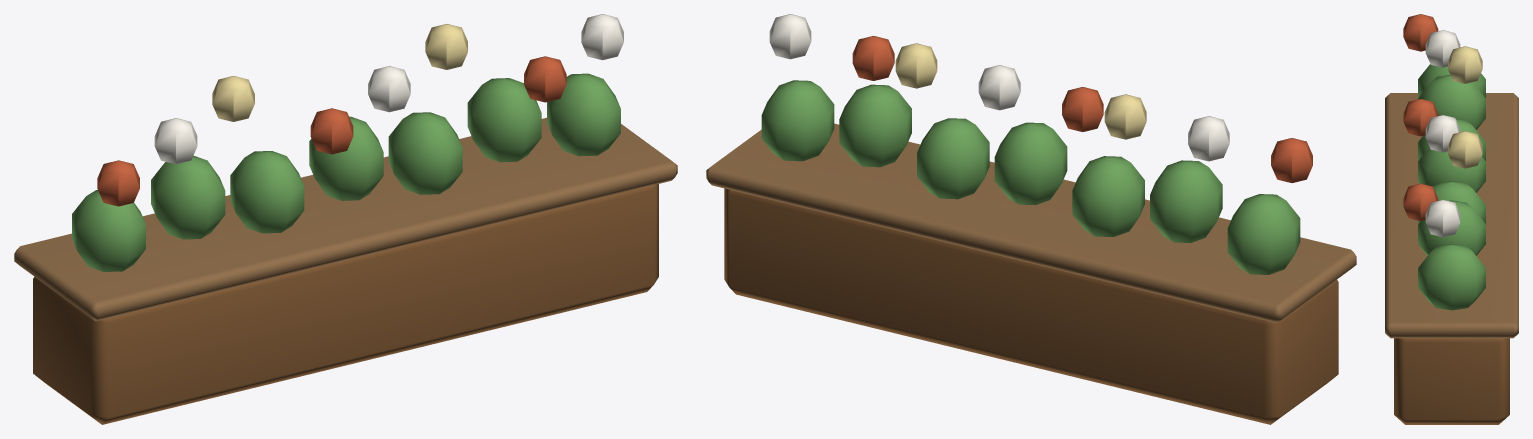
The model's file is window_flower_box.glb.
3 renders of one model, left to right at view 1: azimuth 30°, elevation 25°; view 2: azimuth 150°, elevation 25°; view 3: azimuth 270°, elevation 25°, orthographic. The views are drawn at different scales.
Visible parts, largest first — view 1: window_flower_box; view 2: window_flower_box; view 3: window_flower_box.
Boxes of the visible parts, left/top/right/bottom form: window_flower_box: left=14, top=14, right=677, bottom=424; window_flower_box: left=706, top=14, right=1356, bottom=424; window_flower_box: left=1385, top=14, right=1518, bottom=424.
Size of the model in its own units: 1.24 by 0.565 by 0.3.
